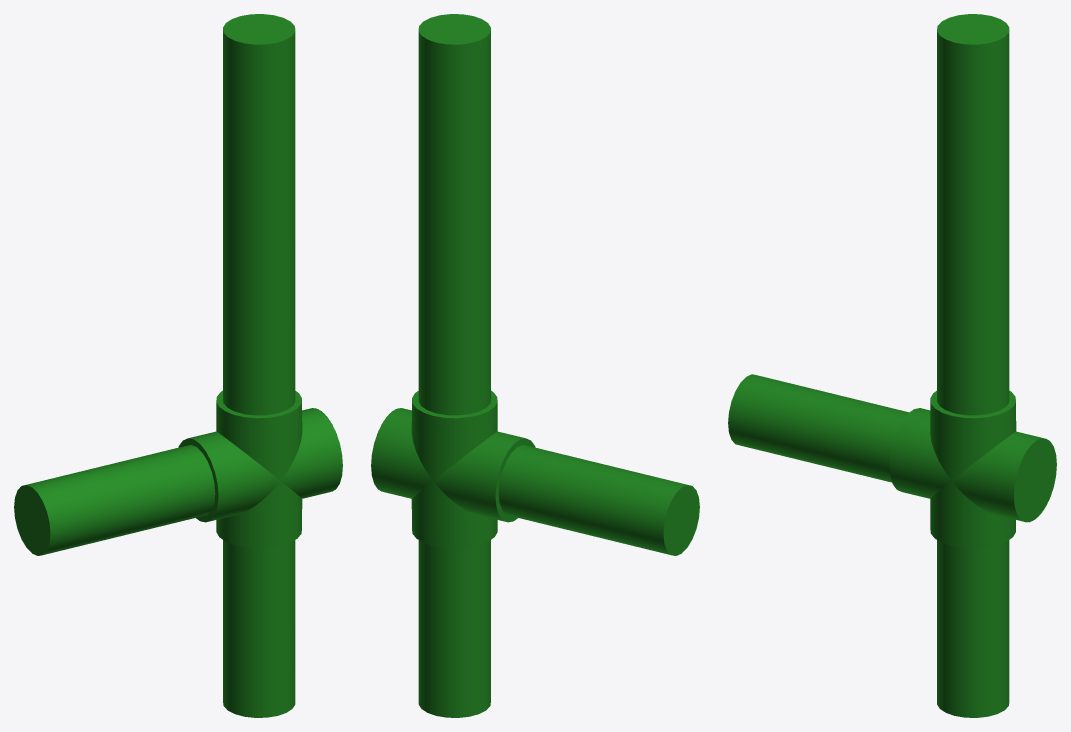
File: Crucifix_bez_reki.obj
3 views of the same model, side by side, from view 1: azimuth 30°, elevation 25°; view 2: azimuth 150°, elevation 25°; view 3: azimuth 330°, elevation 25° (orthographic).
Parts seen in each view (by area): view 1: Bryła1; view 2: Bryła1; view 3: Bryła1.
Part boxes in pixels (bbox=[...]): Bryła1: bbox=[14, 14, 342, 717]; Bryła1: bbox=[371, 14, 699, 717]; Bryła1: bbox=[728, 14, 1056, 717].
Bounding box in the file's own units: 116 × 259 × 30.
